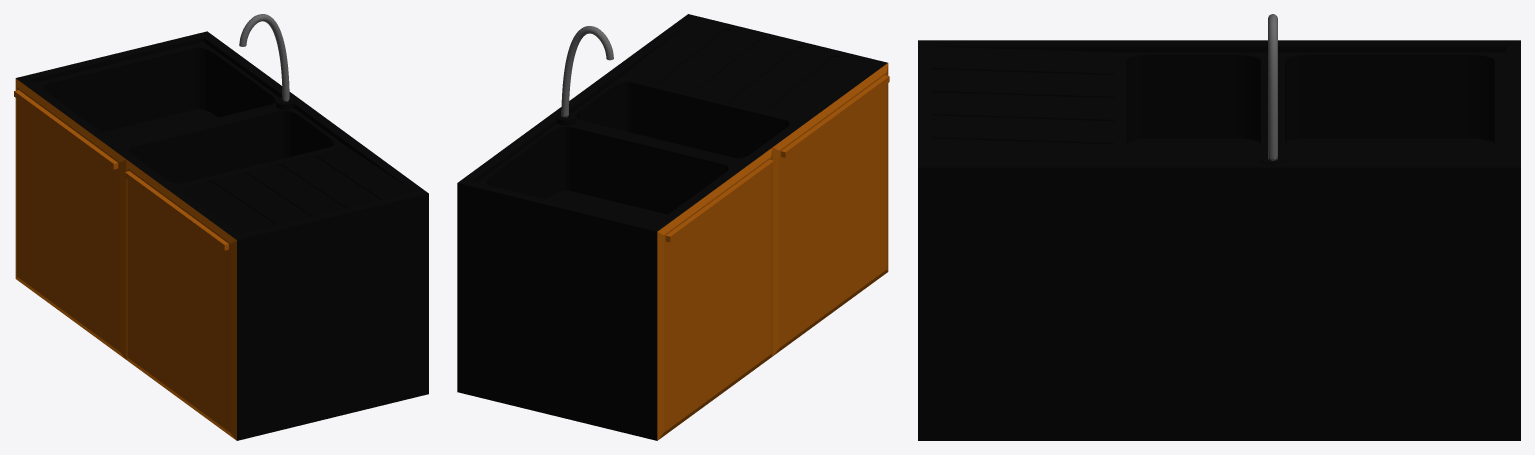
Rendered from Sink.fbx.
The picture shows the model from 3 angles, left to right: view 1: azimuth 30°, elevation 25°; view 2: azimuth 150°, elevation 25°; view 3: azimuth 270°, elevation 25°; orthographic projection. The views are drawn at different scales.
Visible parts, largest first — view 1: Sink; view 2: Sink; view 3: Sink.
Part boxes in pixels (bbox=[...]): Sink: bbox=[14, 14, 428, 440]; Sink: bbox=[457, 14, 889, 440]; Sink: bbox=[918, 14, 1520, 440].
Bounding box in the file's own units: 207 × 400 × 292.
